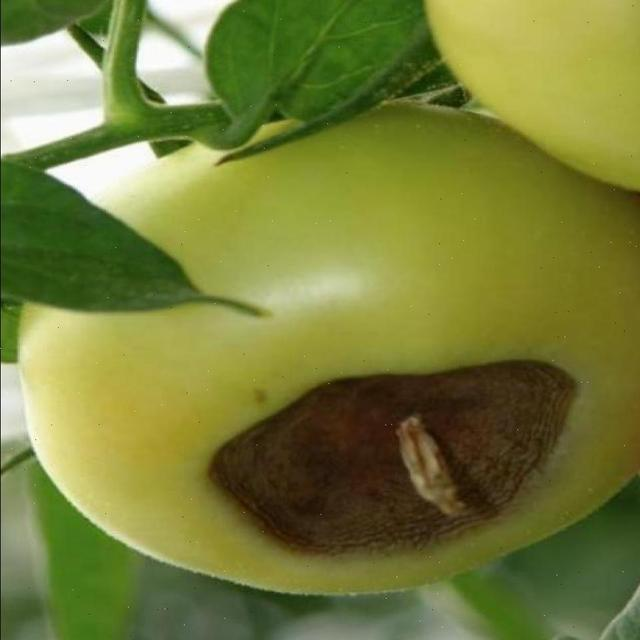Blossom End Rot Fruit: (134, 238, 392, 371)
